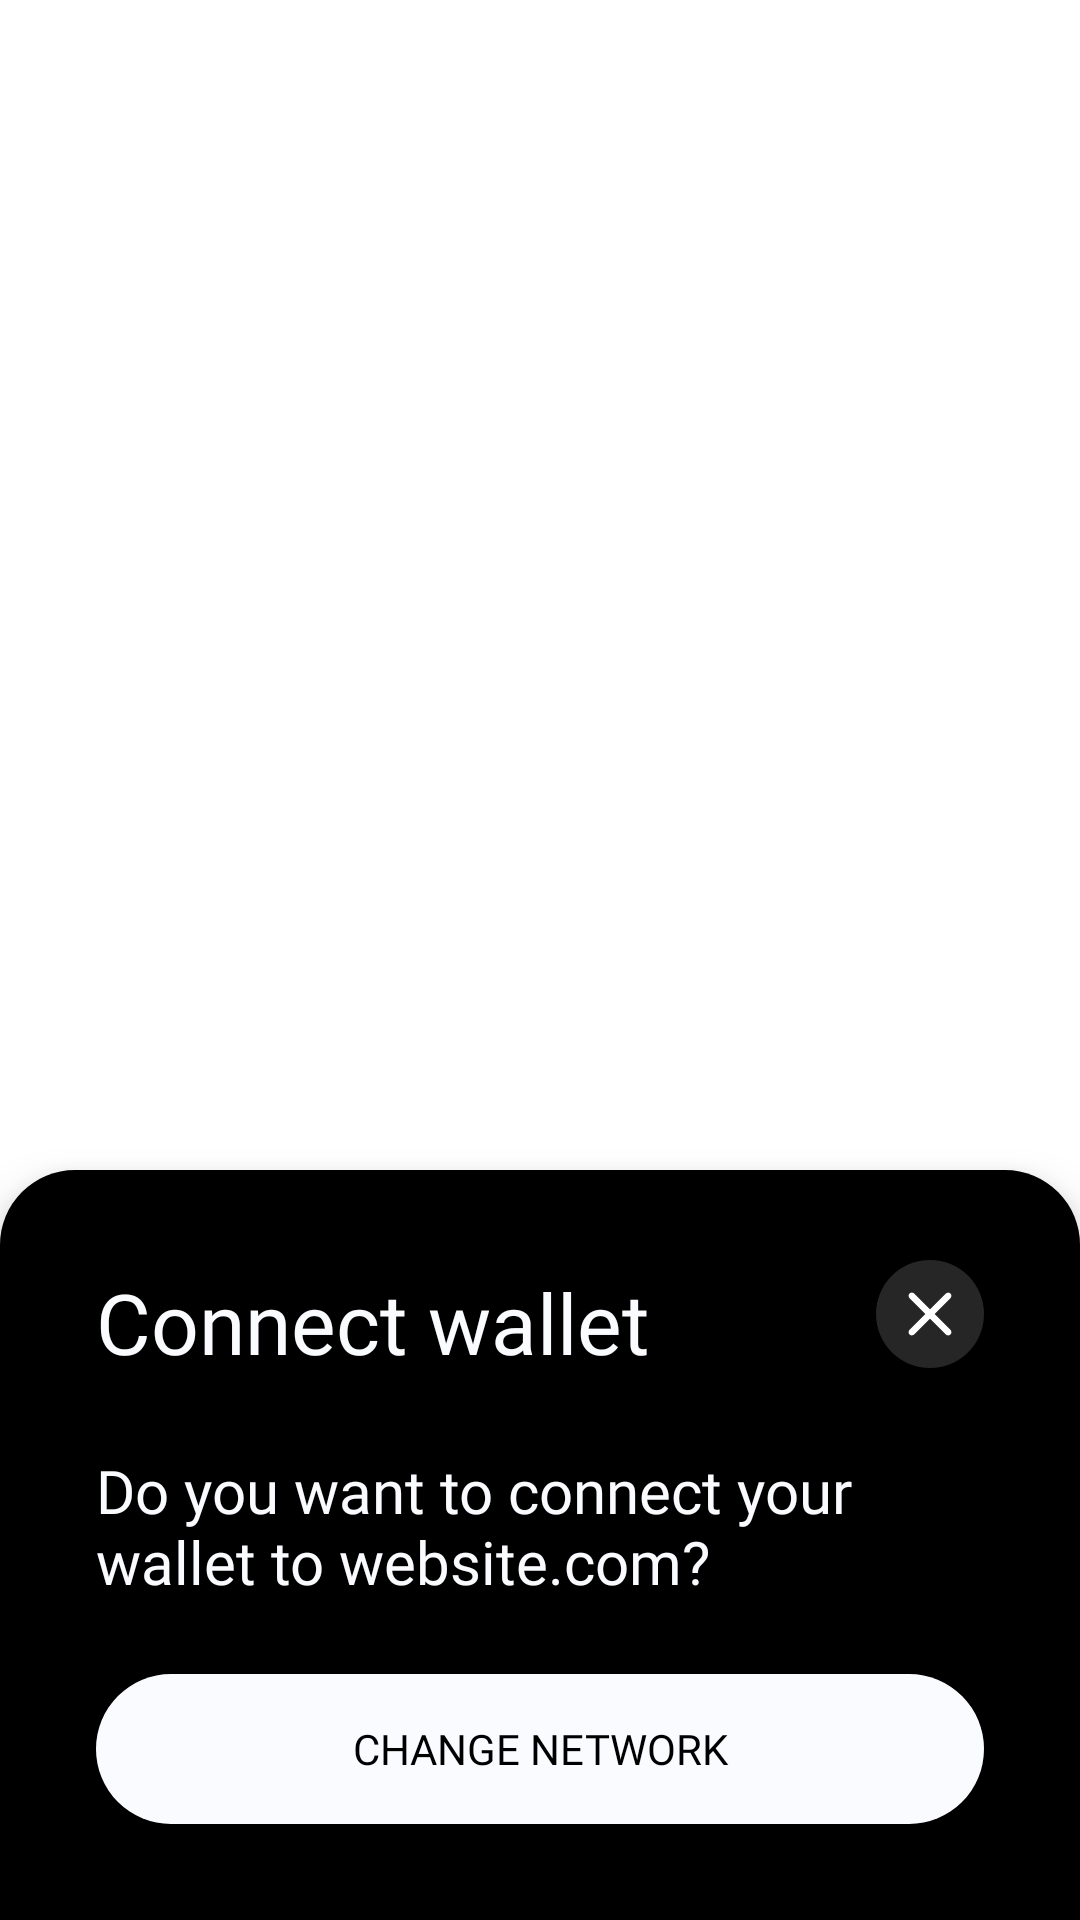

Point at icon controls on the screen. Image size 1080w x 1920h, points as [x,y].
close: [930,1314]
